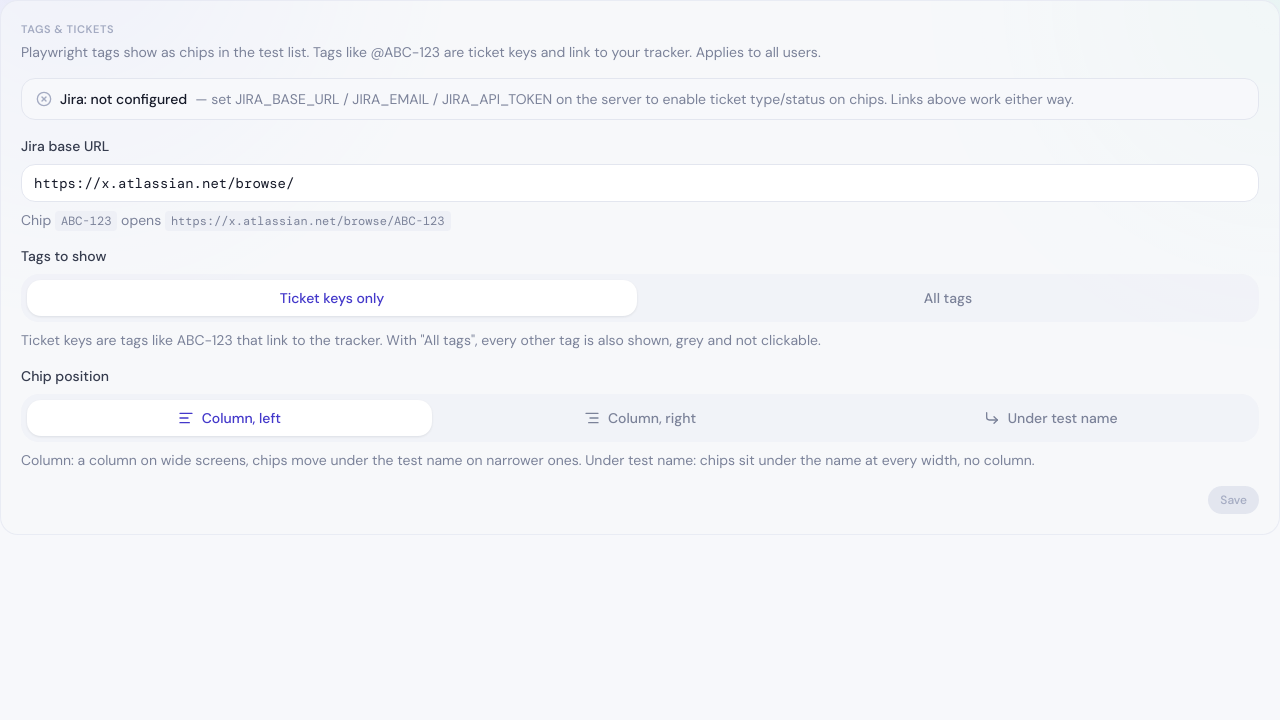
Test case: SettingsJiraSection › Tags to show › switching back to the saved value makes Save disabled again
Check: the field labelled "Jira base URL" is not empty, box [21, 164, 1259, 202]
Click the button "All tags" at (948,298), box [643, 280, 1253, 316]
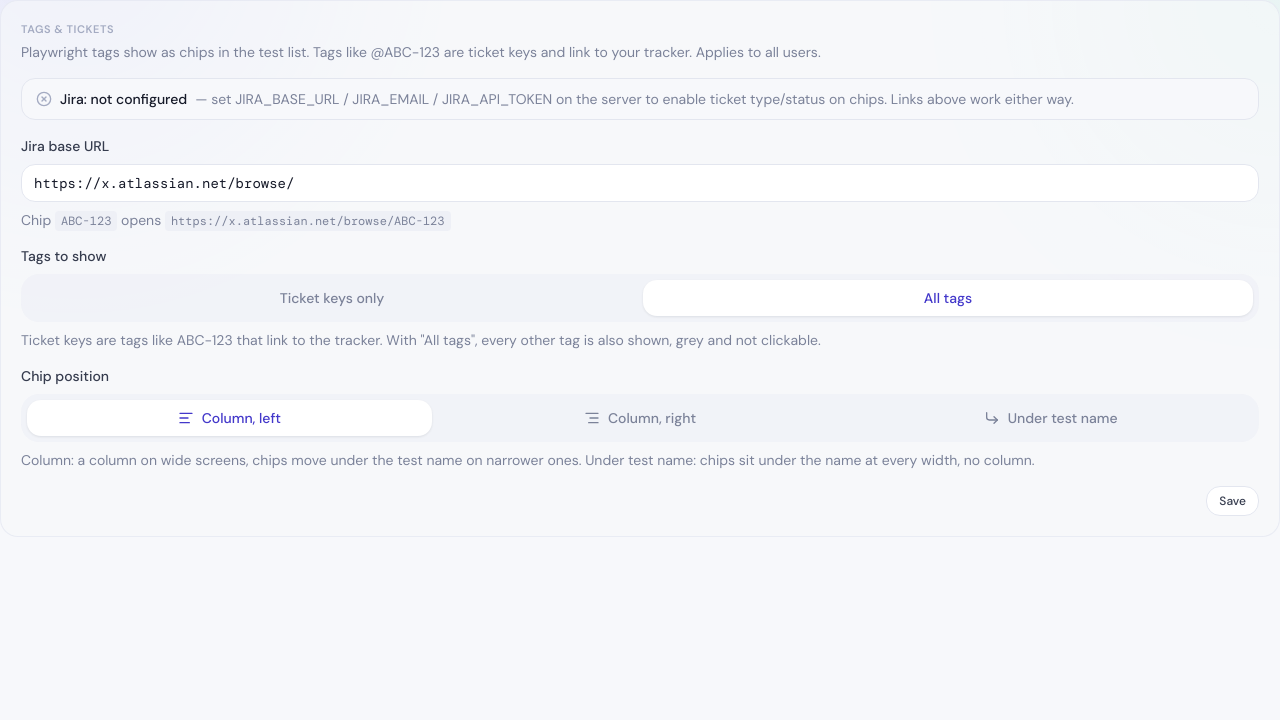
Click the button "Ticket keys only" at (332,298), box [27, 280, 637, 316]
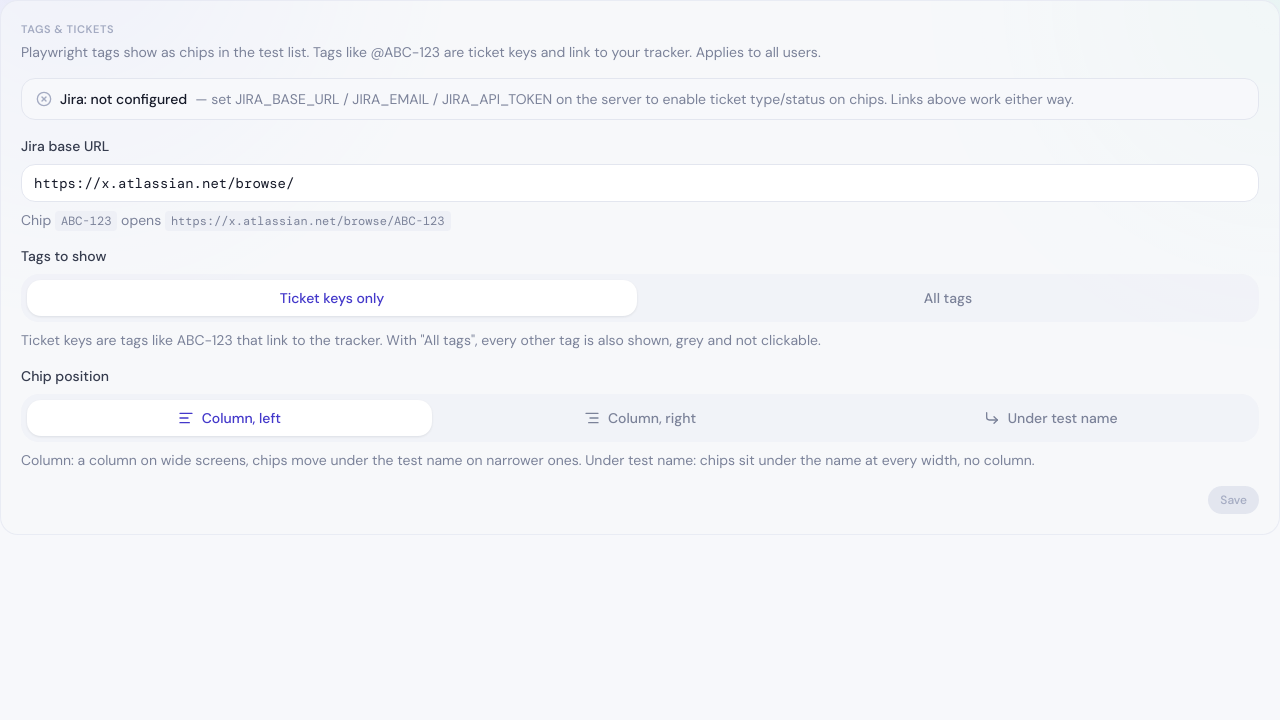
Check: the button "Save" is disabled, box [1208, 486, 1259, 514]
